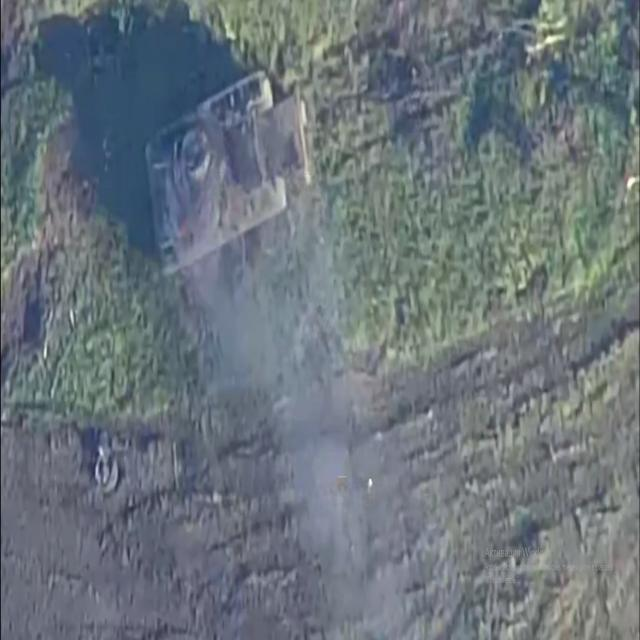APC: (144, 51, 313, 280)
